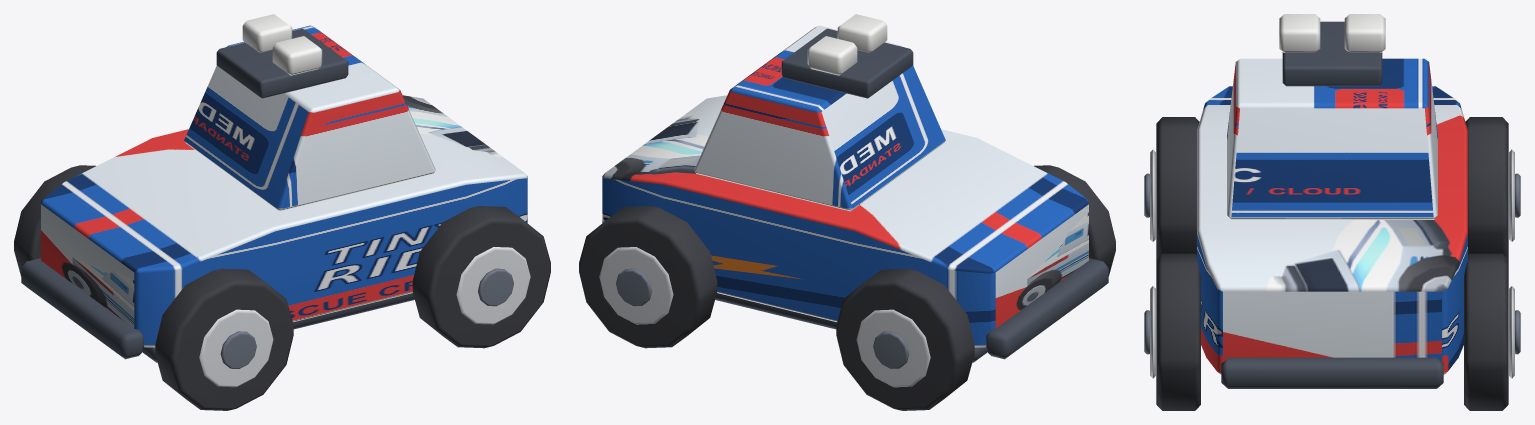
The picture shows the model from 3 angles, left to right: view 1: azimuth 30°, elevation 25°; view 2: azimuth 150°, elevation 25°; view 3: azimuth 270°, elevation 25°; orthographic projection. The views are drawn at different scales.
Parts seen in each view (by area): view 1: RC-02_connected_shell, RC-02_cabin, Tire, Tire.002, front bumper, beacon mount, Rim, Rim.002, Tire.001, beacon lens, beacon lens.001, underbody (+2 smaller); view 2: RC-02_connected_shell, RC-02_cabin, Tire.001, Tire.003, front bumper, beacon mount, Rim.001, Rim.003, Tire, beacon lens.001, beacon lens, underbody (+2 smaller); view 3: RC-02_connected_shell, RC-02_cabin, rear bumper, Tire.002, Tire.003, Tire, Tire.001, beacon mount, beacon lens, beacon lens.001, Rim.002, Rim.003 (+2 smaller).
Boxes of the visible parts, x1,y1,x2,y2 form: RC-02_connected_shell: [41, 95, 527, 347]; RC-02_cabin: [184, 25, 435, 211]; Tire: [155, 268, 293, 410]; Tire.002: [412, 206, 550, 348]; front bumper: [21, 258, 144, 359]; beacon mount: [216, 28, 348, 98]; Rim: [199, 309, 273, 387]; Rim.002: [456, 247, 530, 324]; Tire.001: [14, 165, 95, 276]; beacon lens: [272, 36, 322, 75]; beacon lens.001: [242, 14, 292, 52]; underbody: [142, 293, 414, 362]; RC-02_connected_shell: [602, 95, 1088, 347]; RC-02_cabin: [694, 25, 945, 211]; Tire.001: [836, 268, 974, 410]; Tire.003: [579, 206, 717, 348]; front bumper: [985, 258, 1108, 359]; beacon mount: [781, 28, 913, 98]; Rim.001: [856, 309, 930, 387]; Rim.003: [599, 247, 673, 324]; Tire: [1034, 165, 1115, 276]; beacon lens.001: [807, 36, 857, 75]; beacon lens: [837, 14, 887, 52]; underbody: [715, 293, 987, 362]; RC-02_connected_shell: [1197, 86, 1467, 374]; RC-02_cabin: [1227, 58, 1437, 219]; rear bumper: [1221, 357, 1443, 388]; Tire.002: [1156, 253, 1200, 410]; Tire.003: [1464, 253, 1508, 410]; Tire: [1156, 117, 1199, 259]; Tire.001: [1465, 117, 1508, 259]; beacon mount: [1282, 21, 1382, 86]; beacon lens: [1279, 14, 1320, 52]; beacon lens.001: [1344, 14, 1385, 52]; Rim.002: [1150, 286, 1155, 378]; Rim.003: [1509, 286, 1514, 378].
Bounding box in the file's own units: 308 × 201 × 219.
